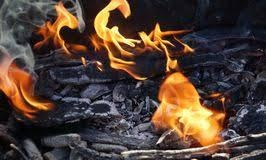fire: (150, 24, 229, 144), (0, 50, 50, 118), (35, 1, 82, 54)
